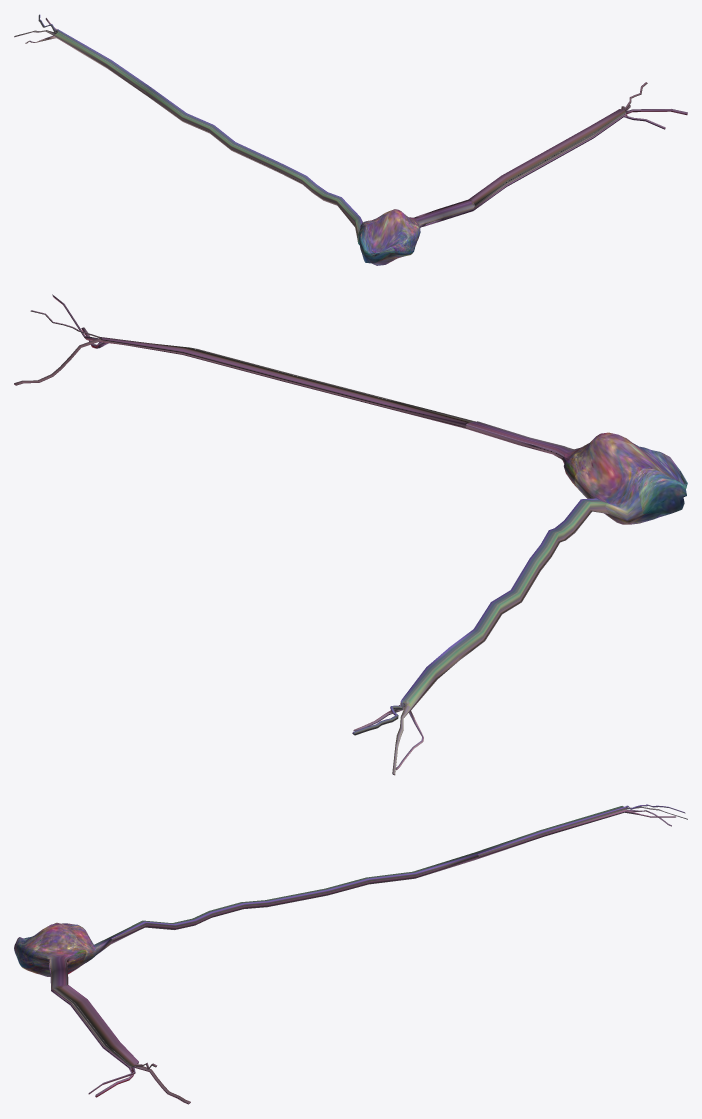
The model's file is neuron13.fbx.
The picture shows the model from 3 angles, top to bottom: view 1: azimuth 30°, elevation 25°; view 2: azimuth 150°, elevation 25°; view 3: azimuth 270°, elevation 25°; orthographic projection. The views are drawn at different scales.
Visible parts, largest first — view 1: done2 duplicted; view 2: done2 duplicted; view 3: done2 duplicted.
Boxes of the visible parts, <box> form: done2 duplicted: <box>14,14,687,265</box>; done2 duplicted: <box>14,294,687,775</box>; done2 duplicted: <box>14,804,687,1104</box>.
Bounding box in the file's own units: 11233 × 2173 × 12061.
